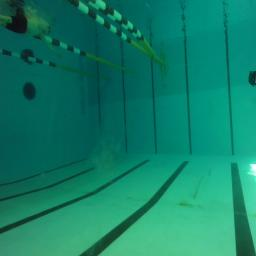Side: (248, 72, 256, 86)
